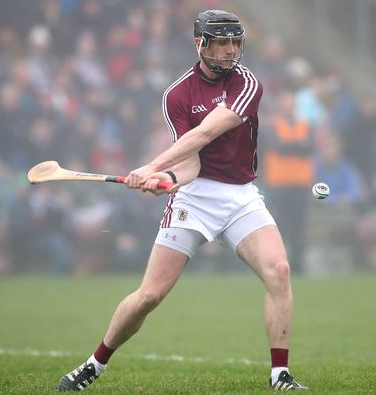hurley: (25, 159, 180, 196)
